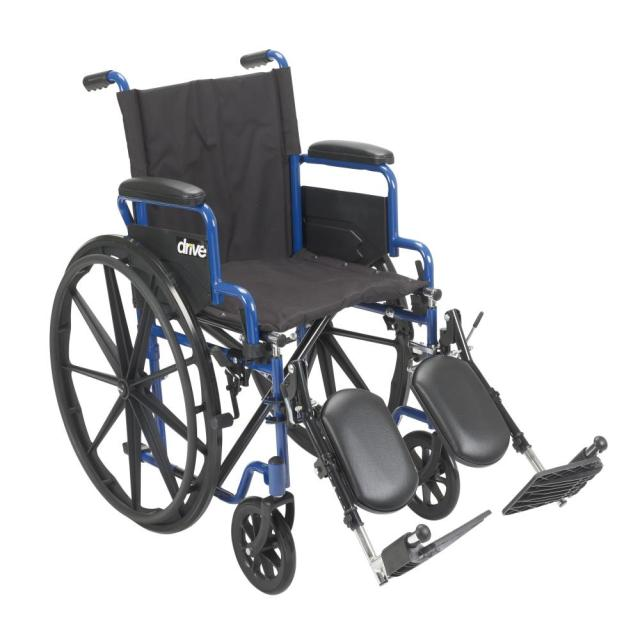wheelchairs: (45, 43, 618, 597)
